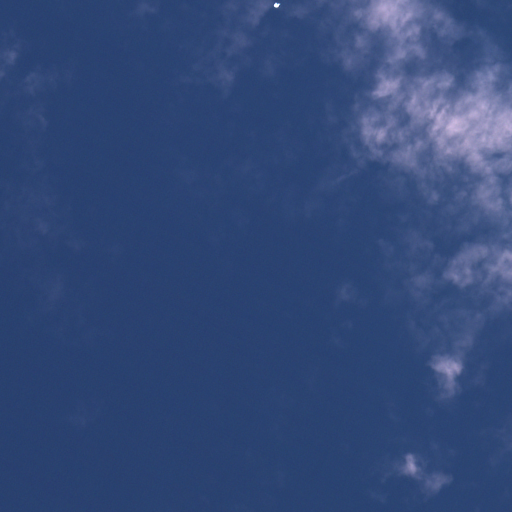Iceberg: (273, 3, 279, 7)
